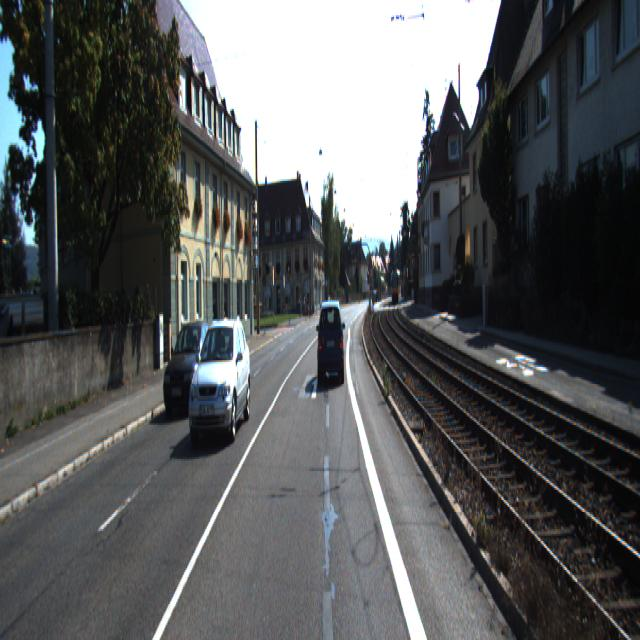Car: (190, 315, 252, 446), (162, 319, 217, 417), (317, 298, 345, 386)
